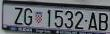-: (84, 19, 88, 22)
1: (47, 10, 51, 27)
2: (75, 11, 84, 29)
3: (64, 11, 73, 29)
5: (54, 10, 63, 28)
A: (88, 12, 97, 30)
B: (99, 12, 108, 31)
G: (24, 8, 32, 26)
Z: (14, 7, 23, 25)
